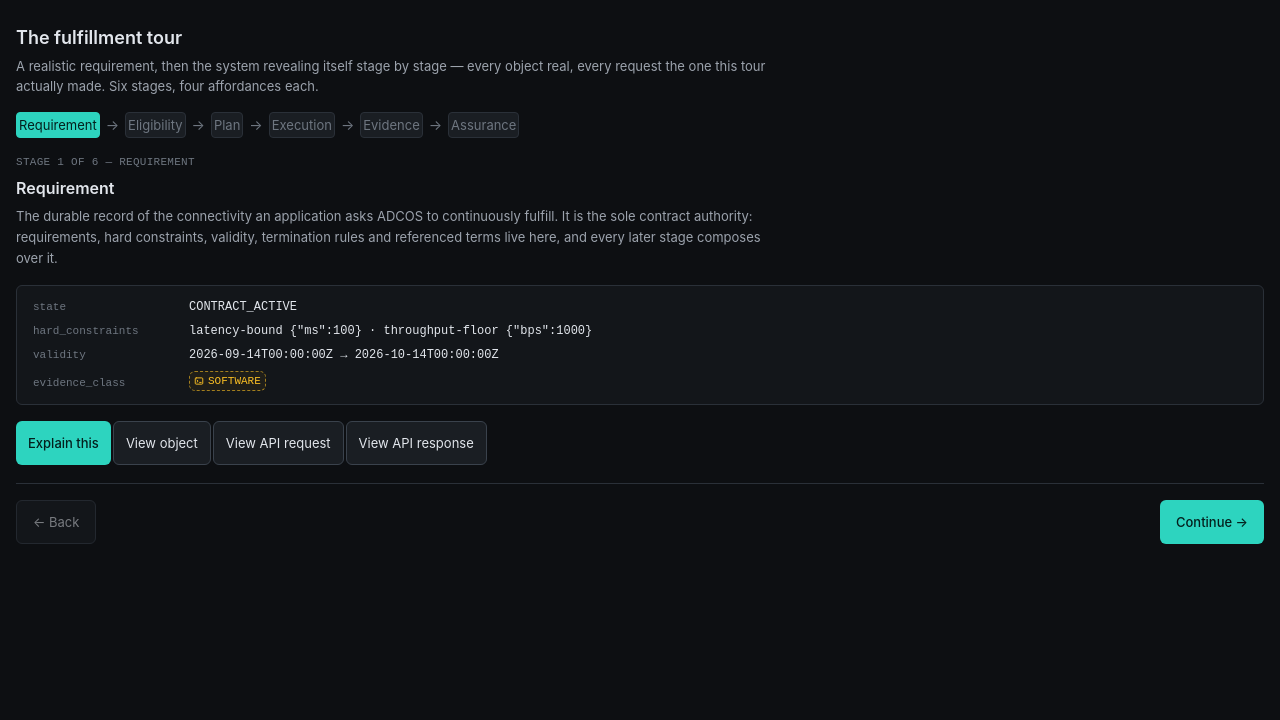
it: The fulfillment tour — the four affordances › Explain this opens the stage's concept education with REAL registry content
Expected: the element with test id "tour-stage" is shown, [16,154,1264,544]
Expected: the heading "Requirement" is shown, [16,178,114,198]
Click the button with test id "tour-explain": (63, 443) [16,421,111,465]
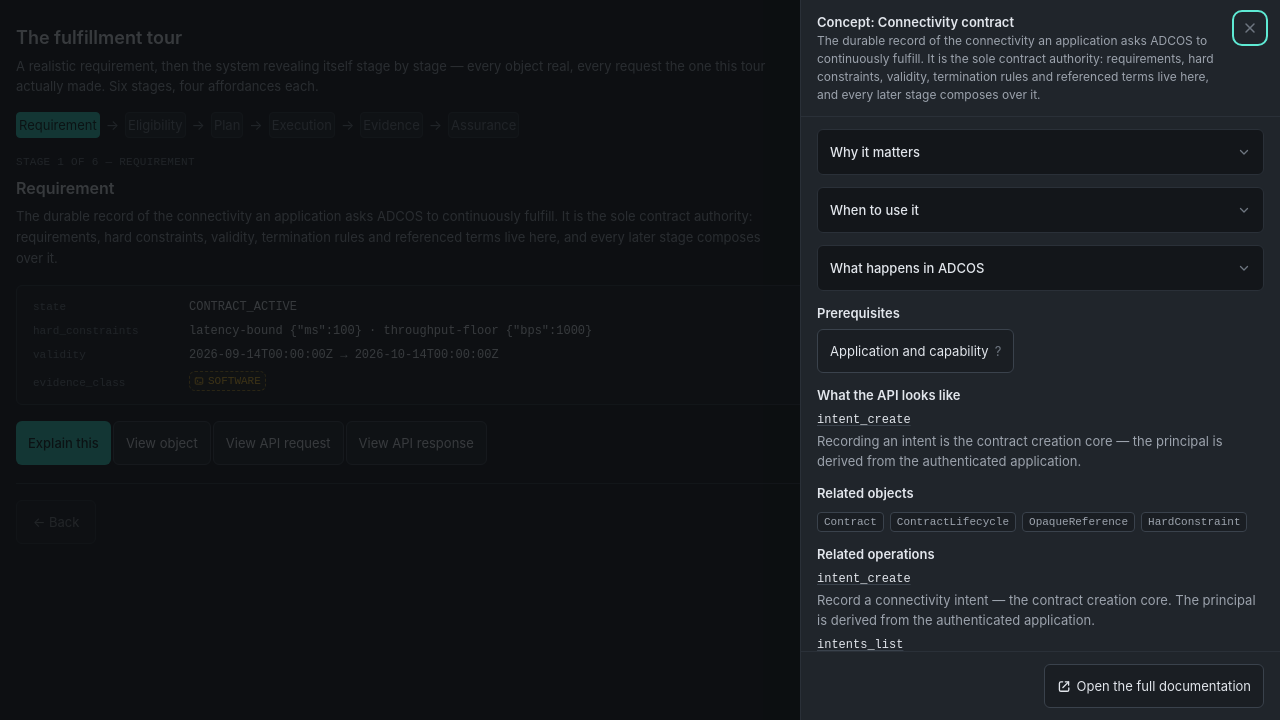
Now the text "durable record of the connectivity an application asks ADCOS" is shown, box [817,33,1214,102]
